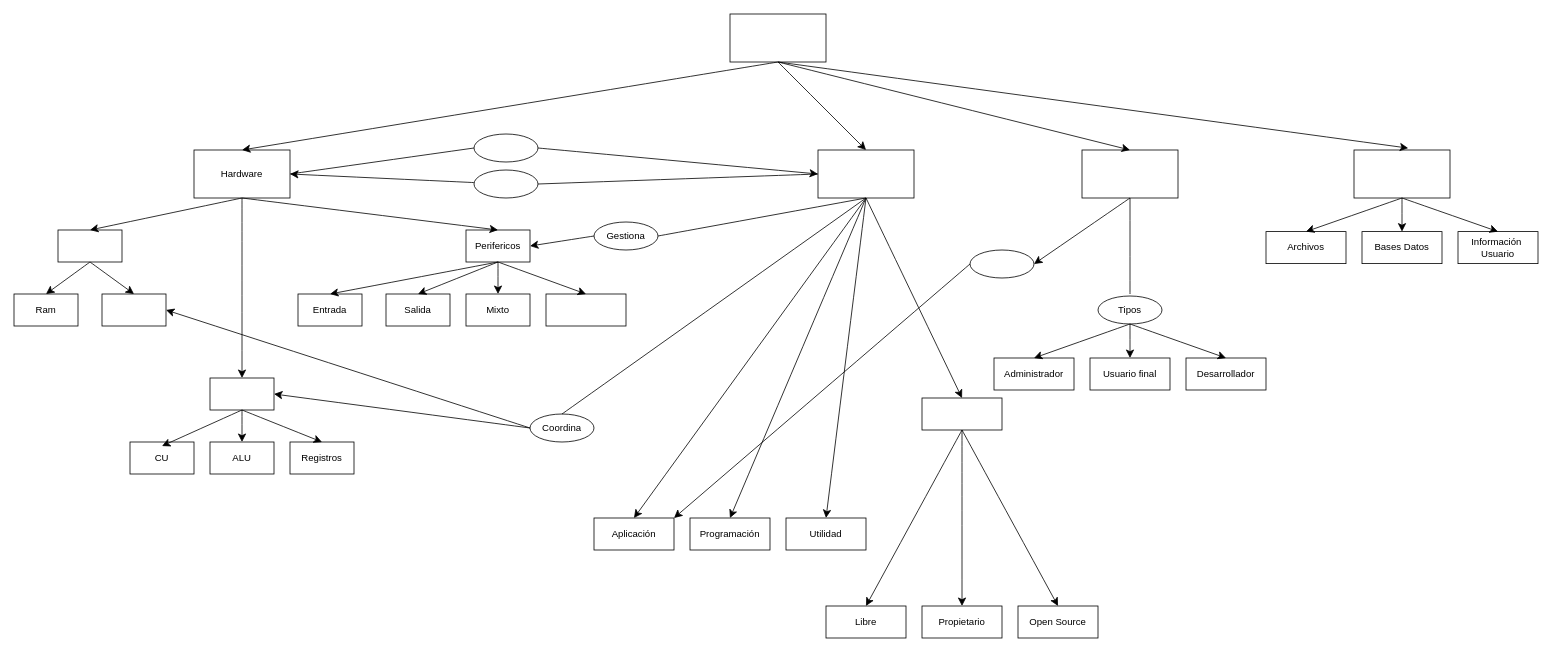
Image size: 1552x652. Some labels were removed from this diagram. Each missing label, with the box of its shape:
Almacenamiento: (545, 293, 626, 326)
CPU: (209, 377, 274, 410)
Datos: (1353, 149, 1450, 198)
Ejecuta: (473, 133, 538, 162)
Memoria: (57, 229, 122, 262)
Necesita: (969, 249, 1034, 278)
Perisitente: (101, 293, 166, 326)
Según Licencia: (921, 397, 1002, 430)
Sistema Informático: (729, 13, 826, 62)
Software: (817, 149, 914, 198)
Solicita: (473, 169, 538, 198)
Usuarios: (1081, 149, 1178, 198)
